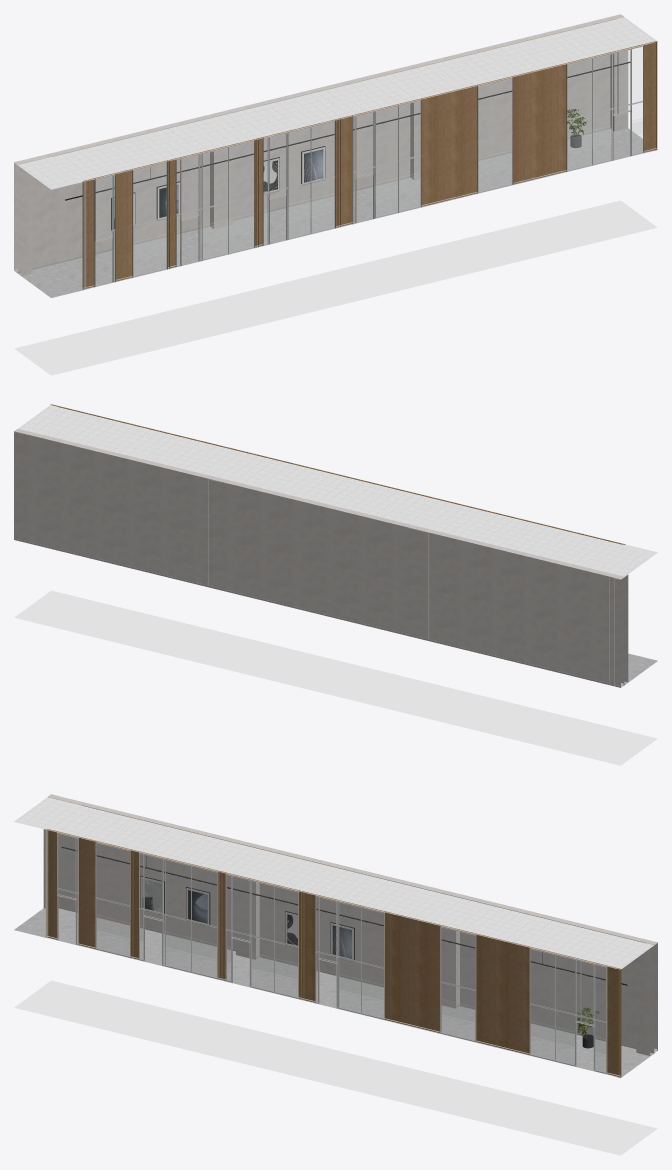
The model's file is corridoio.glb.
3 renders of one model, top to bottom at view 1: azimuth 30°, elevation 25°; view 2: azimuth 150°, elevation 25°; view 3: azimuth 330°, elevation 25°, orthographic.
Parts seen in each view (by area): view 1: BAKE_statico, Vetri.001, Fasce satinate.001, Lampade lineari.001, Stampa p5.jpg.001; view 2: BAKE_statico; view 3: BAKE_statico, Vetri.001, Fasce satinate.001, Lampade lineari.001, Stampa p6.jpg.001, Stampa p3.jpg.001, Stampa p5.jpg.001.
Boxes of the visible parts, x1=… form: BAKE_statico: x1=14, y1=14, x2=657, y2=375; Vetri.001: x1=95, y1=46, x2=643, y2=281; Fasce satinate.001: x1=134, y1=118, x2=642, y2=259; Lampade lineari.001: x1=65, y1=61, x2=630, y2=200; Stampa p5.jpg.001: x1=304, y1=149, x2=323, y2=182; BAKE_statico: x1=14, y1=404, x2=657, y2=765; BAKE_statico: x1=14, y1=794, x2=657, y2=1155; Vetri.001: x1=58, y1=834, x2=605, y2=1073; Fasce satinate.001: x1=77, y1=915, x2=605, y2=1056; Lampade lineari.001: x1=61, y1=846, x2=627, y2=985; Stampa p6.jpg.001: x1=188, y1=890, x2=207, y2=923; Stampa p3.jpg.001: x1=142, y1=879, x2=161, y2=912; Stampa p5.jpg.001: x1=332, y1=925, x2=351, y2=958.
Size of the model in its own units: 29.37 by 8.62 by 3.12.
Materials: 20 (11 with a texture image).
